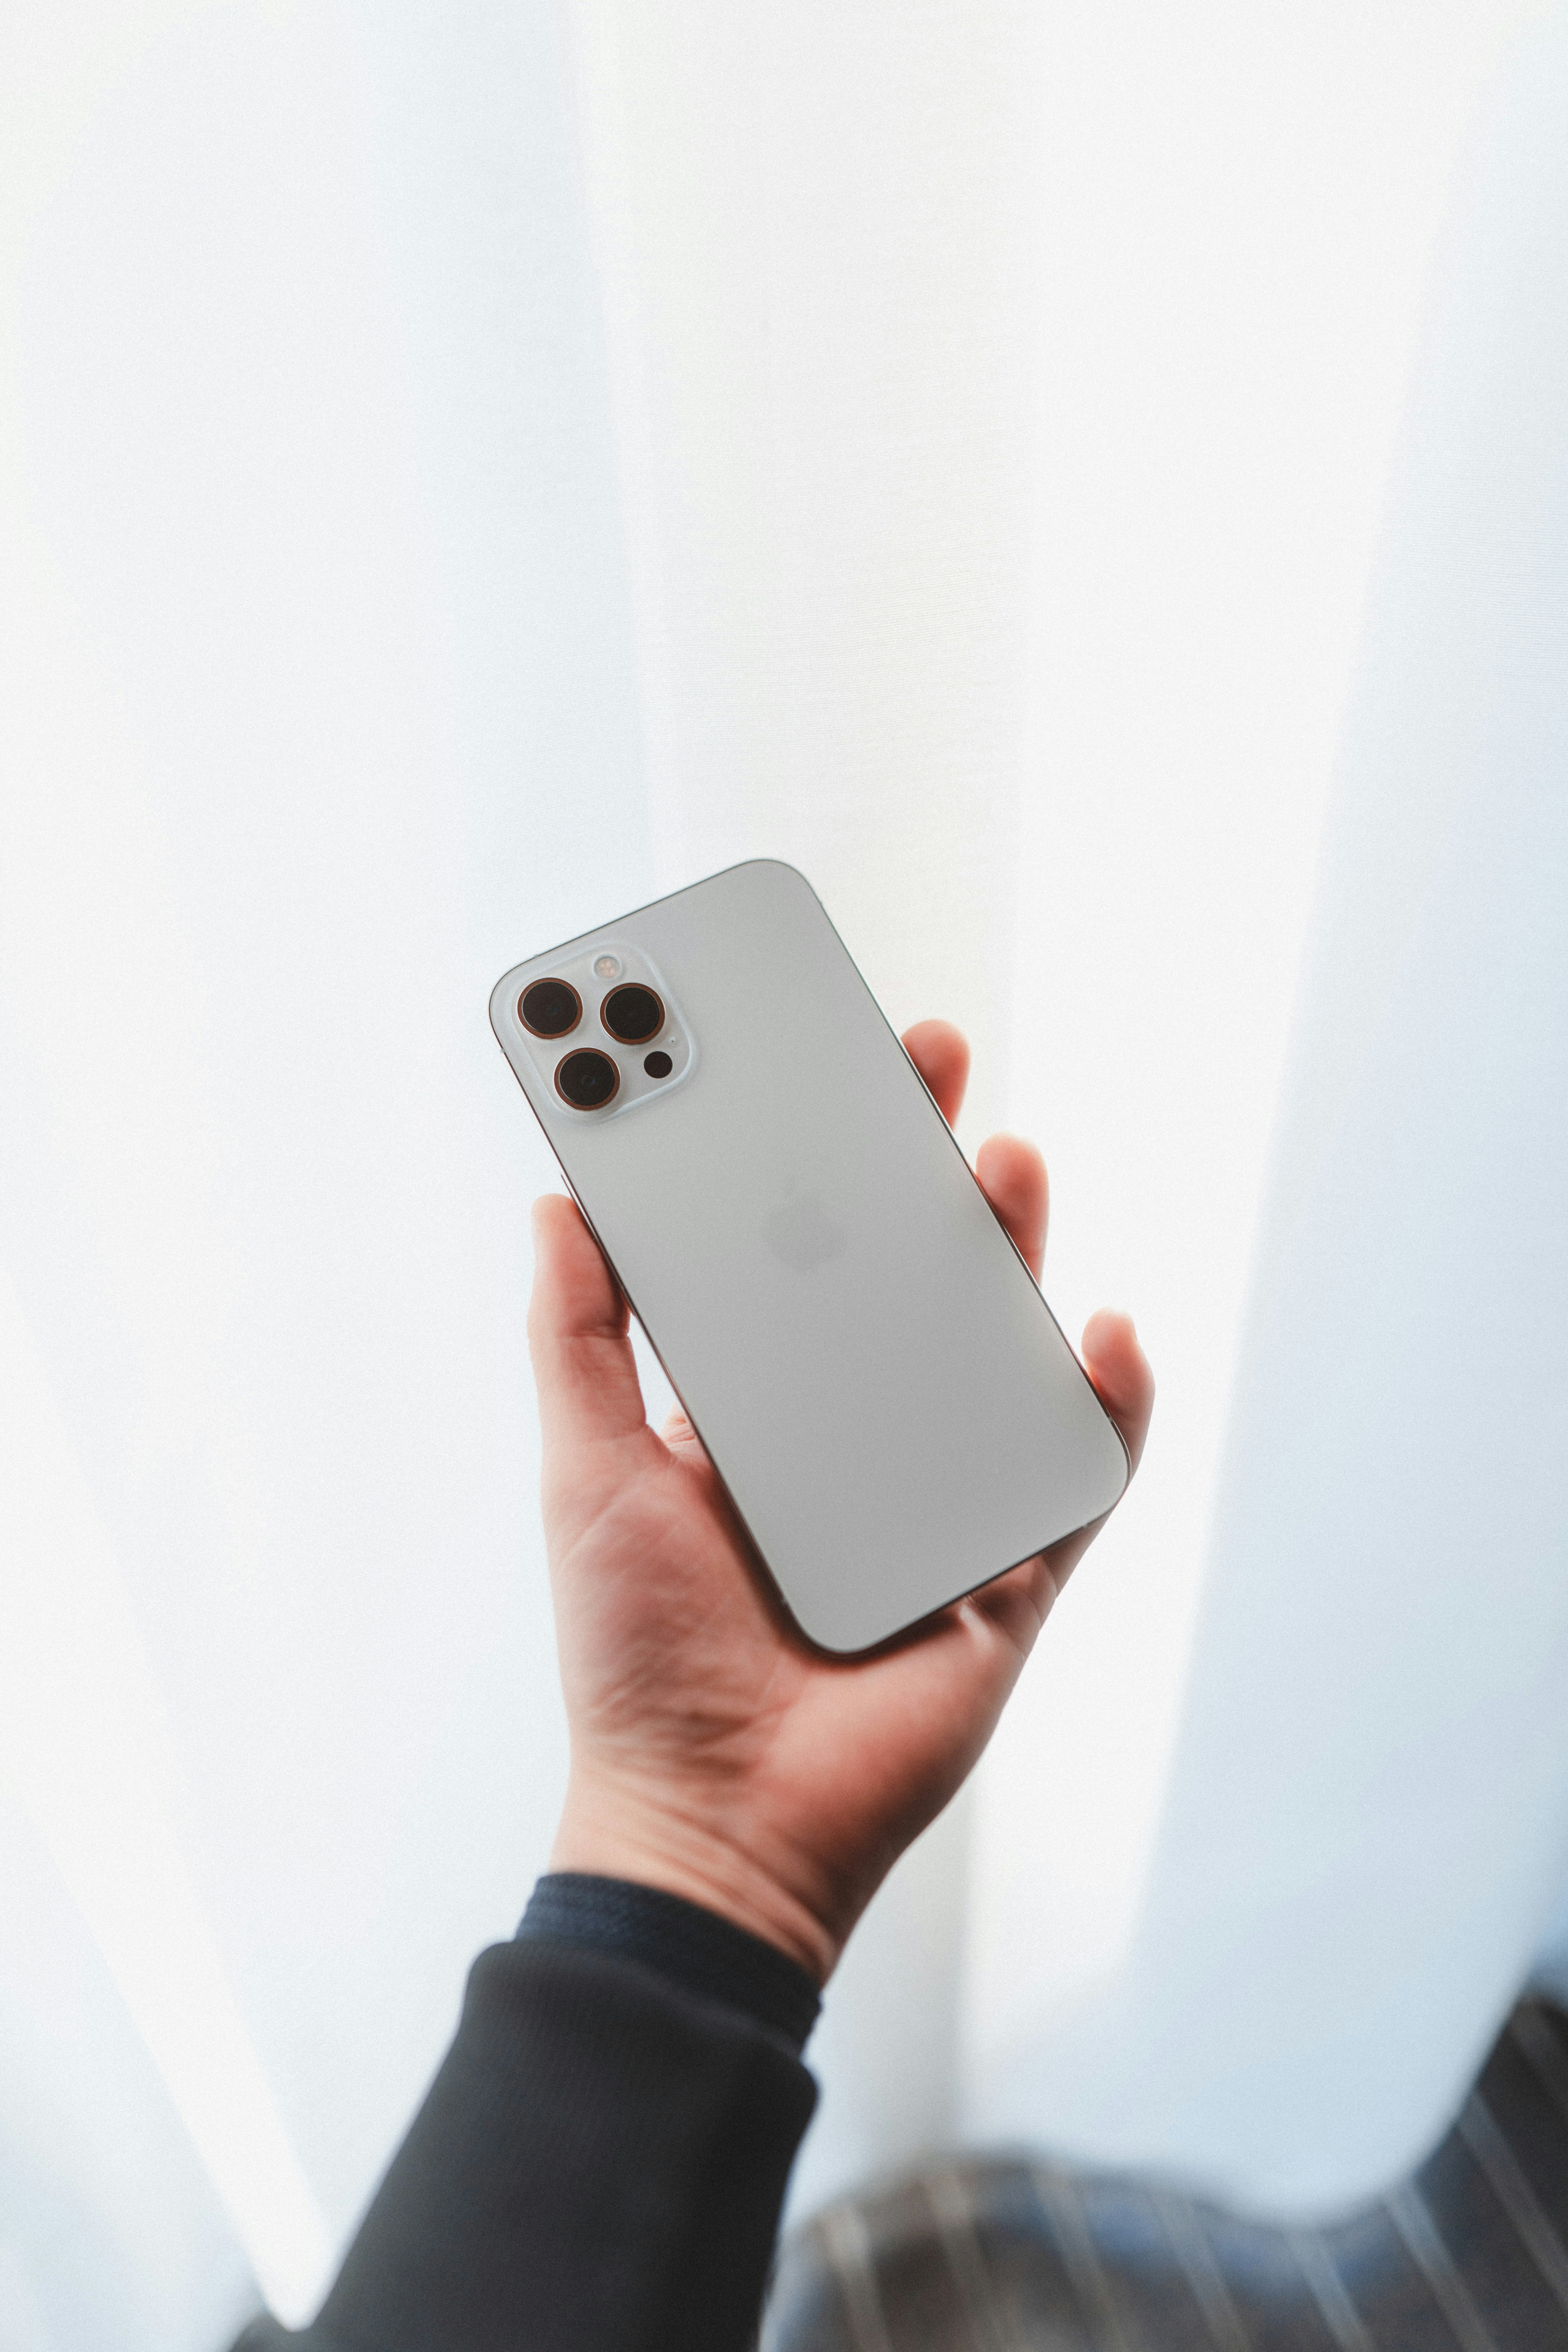p6: (481, 843, 1181, 1698)
